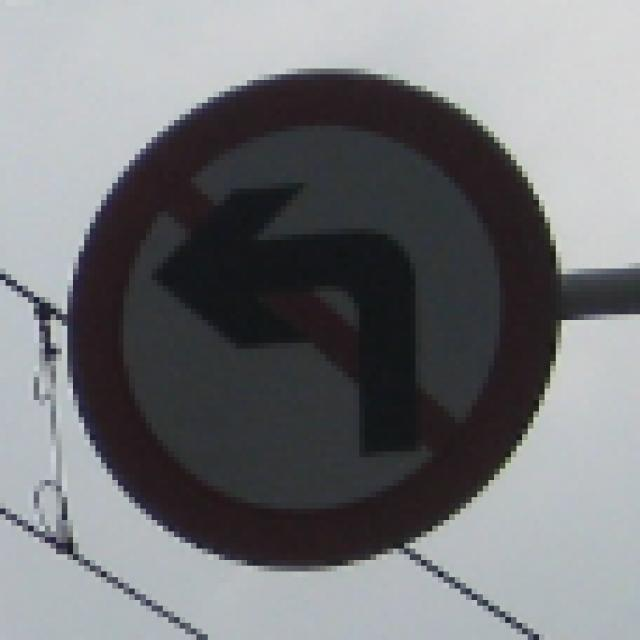Not that Direction: (74, 60, 562, 574)
